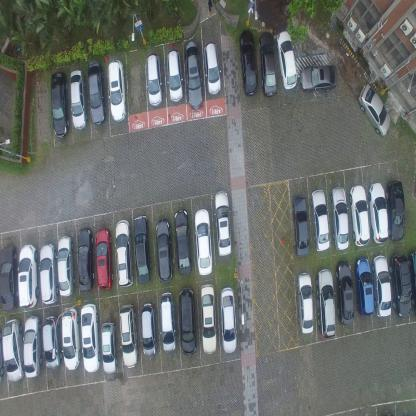car: (358, 82, 391, 136), (2, 318, 26, 382), (389, 252, 412, 318), (315, 268, 336, 340), (132, 214, 152, 285), (80, 303, 100, 373), (18, 244, 39, 310), (114, 219, 134, 288), (118, 304, 139, 369), (238, 30, 258, 98), (219, 285, 238, 355), (87, 60, 107, 126), (349, 184, 370, 246), (194, 208, 213, 276), (50, 70, 69, 138), (107, 58, 127, 122), (258, 31, 277, 98), (385, 179, 405, 242), (368, 181, 388, 244), (0, 243, 18, 313), (185, 40, 203, 110), (310, 189, 330, 251), (39, 243, 59, 305), (276, 31, 297, 90), (200, 283, 217, 355), (174, 208, 192, 276), (178, 286, 196, 354), (354, 256, 374, 317), (330, 186, 349, 250), (95, 227, 114, 291), (214, 189, 232, 256), (23, 315, 42, 378), (336, 260, 354, 325), (155, 219, 173, 283), (77, 228, 95, 292), (292, 194, 310, 257), (372, 254, 390, 317), (296, 271, 314, 333), (62, 308, 80, 370), (57, 235, 75, 297), (300, 64, 338, 93), (69, 69, 87, 130), (42, 315, 62, 369), (140, 301, 158, 358), (203, 40, 221, 96), (145, 51, 163, 107), (100, 321, 118, 375), (160, 292, 176, 352), (166, 48, 183, 104), (408, 250, 416, 314)
